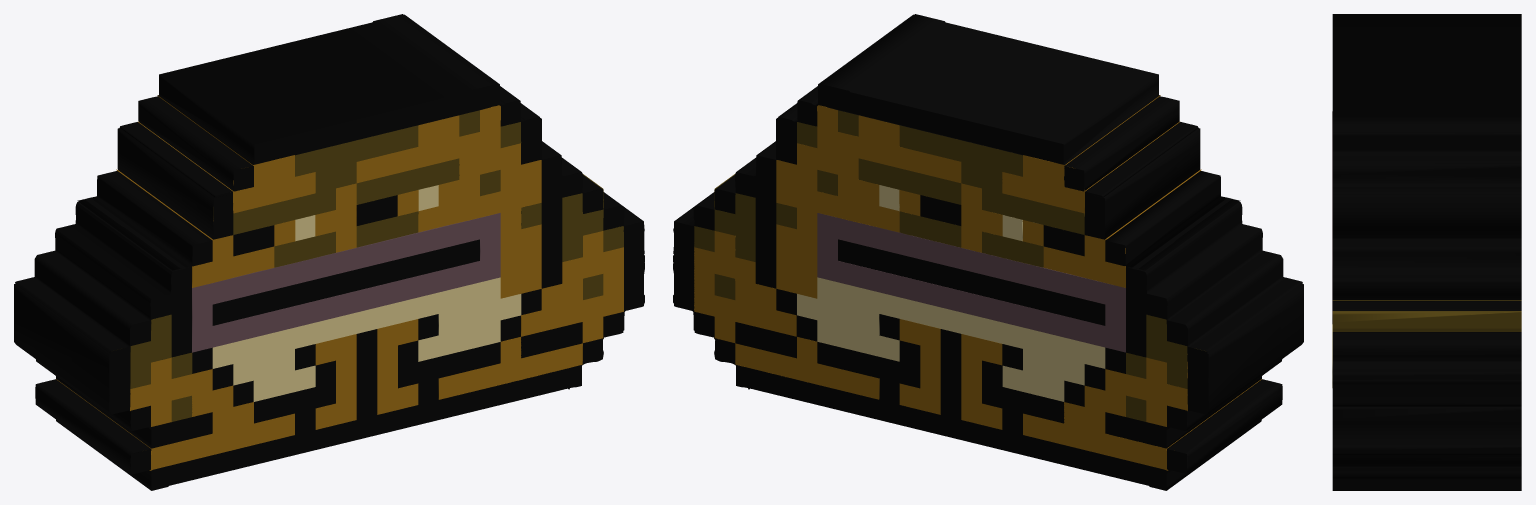
Rendered from Toadz_2776.glb.
3 renders of one model, left to right at view 1: azimuth 30°, elevation 25°; view 2: azimuth 150°, elevation 25°; view 3: azimuth 270°, elevation 25°, orthographic.
Visible parts, largest first — view 1: Curve; view 2: Curve; view 3: Curve.
Part boxes in pixels (bbox=[...]): Curve: bbox=[14, 14, 644, 490]; Curve: bbox=[673, 14, 1303, 490]; Curve: bbox=[1332, 14, 1521, 490].
Size of the model in its own units: 3.24 by 1.87 by 1.
